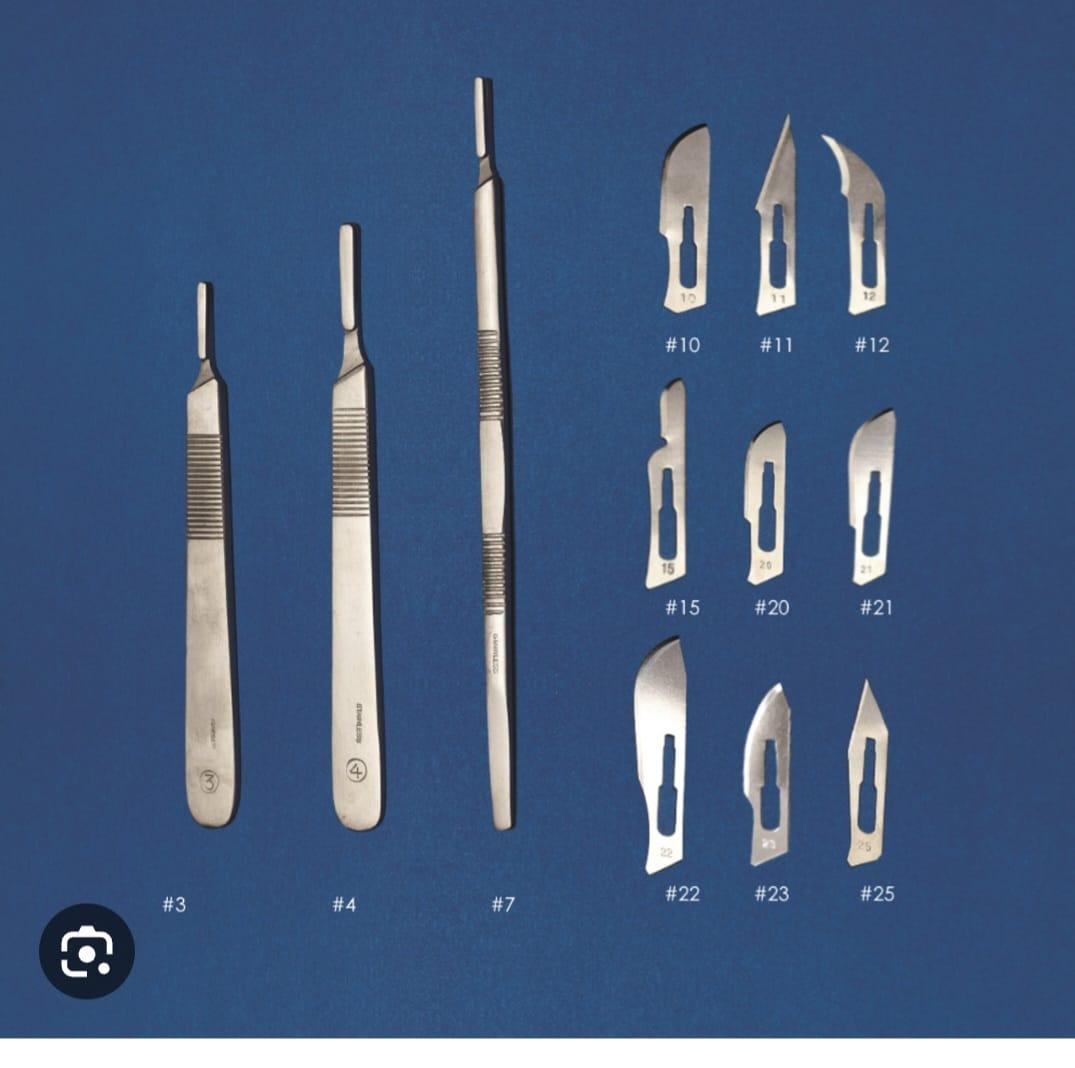Knife handle: (453, 55, 540, 852), (303, 210, 393, 840), (168, 255, 255, 828)
Surgical blade: (618, 632, 695, 885), (650, 112, 728, 322), (820, 122, 900, 317), (823, 400, 905, 588), (738, 672, 810, 880), (748, 108, 805, 315), (730, 413, 795, 593), (838, 672, 893, 873)
